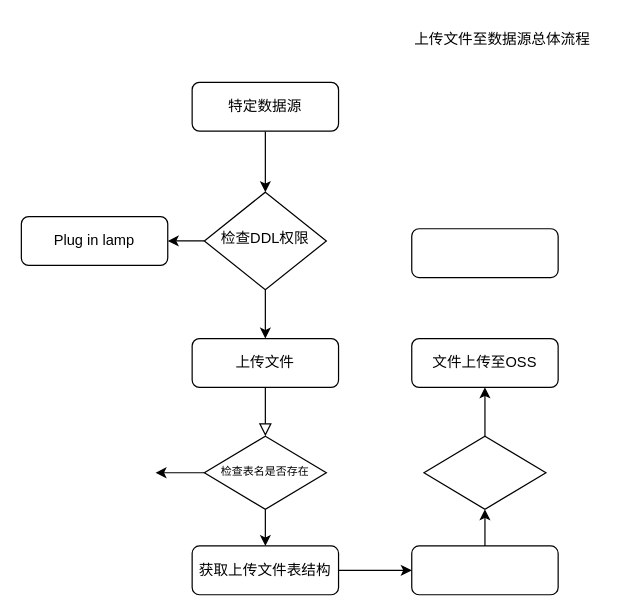
Some shapes in this 627 by 616 pixel diagram are drawn without their labels. Each missing label, with the centre of its shape:
下发任务至执行机: point 484,253
检查参数合法性: point 484,570
检查是否有数 据 源 使用权限: point 484,472
